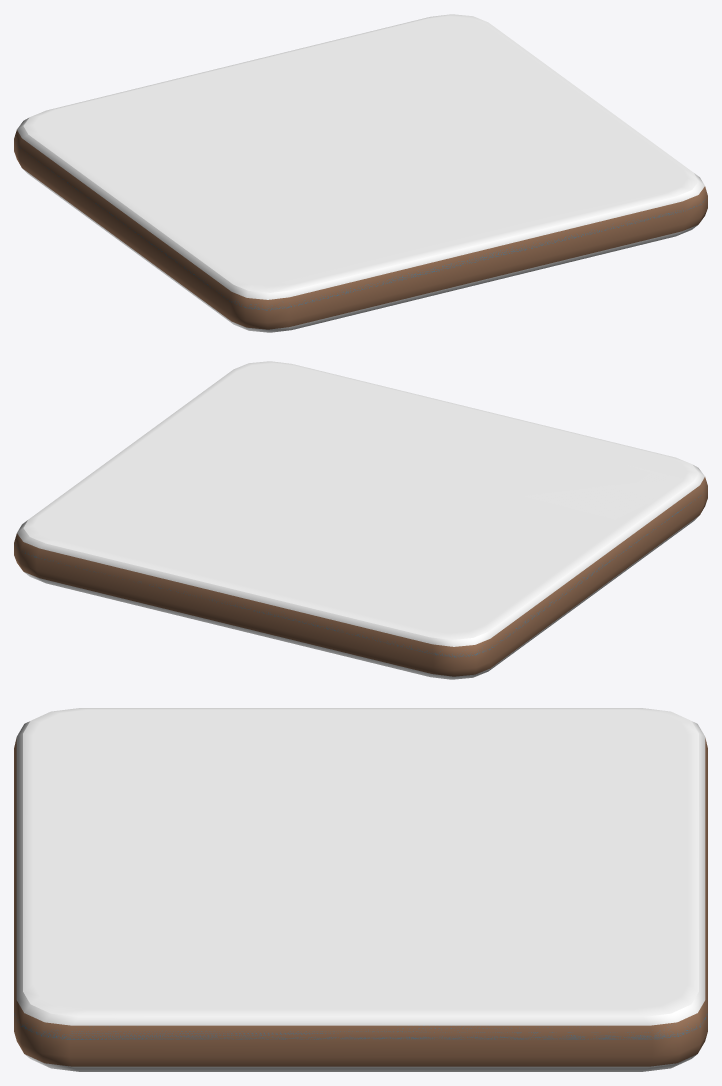
Rendered from CastleBlocks_01.fbx.
The picture shows the model from 3 angles, top to bottom: view 1: azimuth 30°, elevation 25°; view 2: azimuth 150°, elevation 25°; view 3: azimuth 270°, elevation 25°; orthographic projection. The views are drawn at different scales.
Visible parts, largest first — view 1: Block_sq_wood, Block_sq_Metal; view 2: Block_sq_wood; view 3: Block_sq_wood, Block_sq_Metal.
Boxes of the visible parts, <box> form: Block_sq_wood: <box>14,14,707,332</box>; Block_sq_Metal: <box>18,146,705,310</box>; Block_sq_wood: <box>14,361,707,679</box>; Block_sq_wood: <box>14,708,707,1071</box>; Block_sq_Metal: <box>14,995,707,1039</box>.
Size of the model in its own units: 1.57 by 0.1401 by 1.45.
